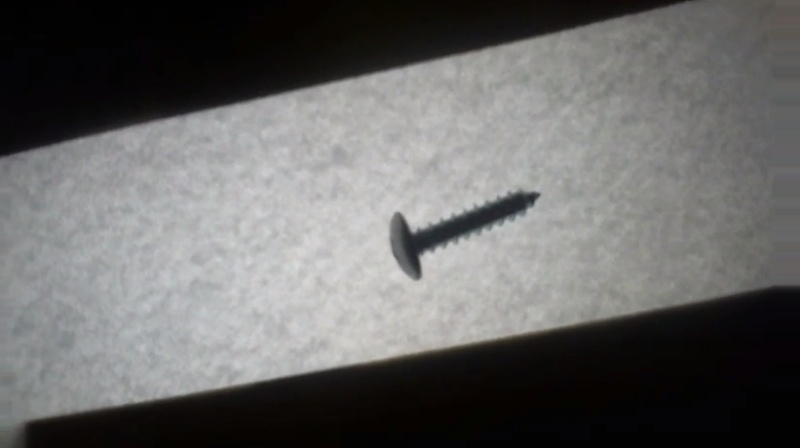S003: (385, 183, 546, 284)
